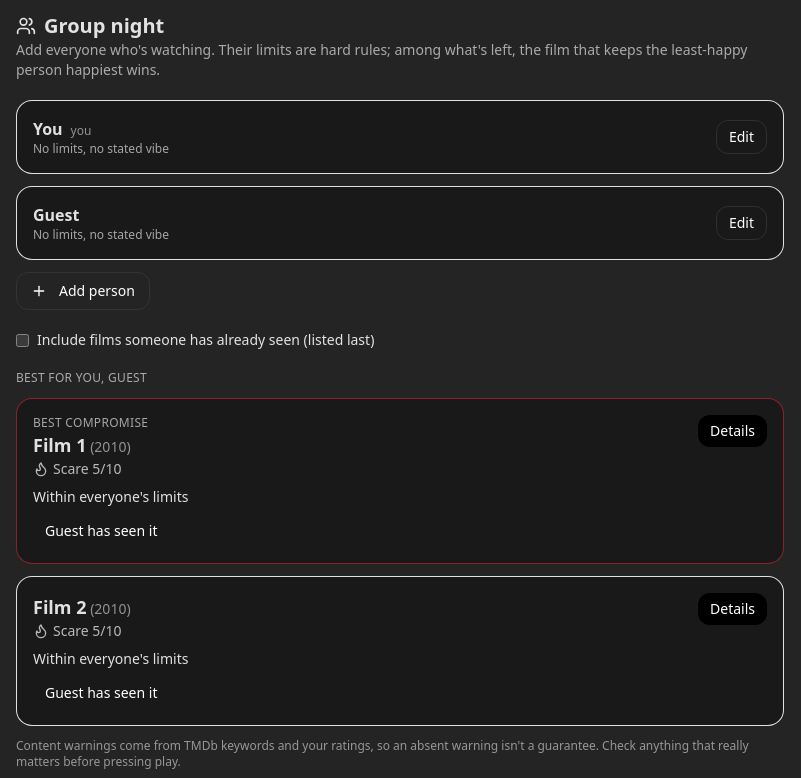
Test: Group night › ticking 'has seen it' takes the film off the list until you allow seen films
The image size is (801, 778).
Click the button "Guest has seen it" below "Film 1": (101, 531) [33,515,170,547]
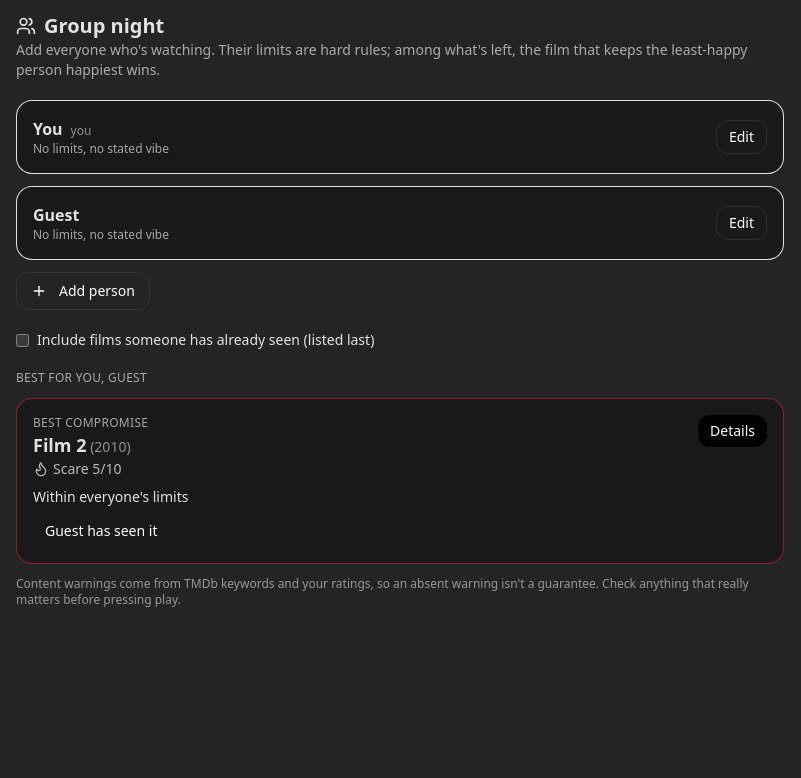
Click the checkbox labelled "Include films someone has already seen (listed last)": (22, 340) [16,334,29,346]
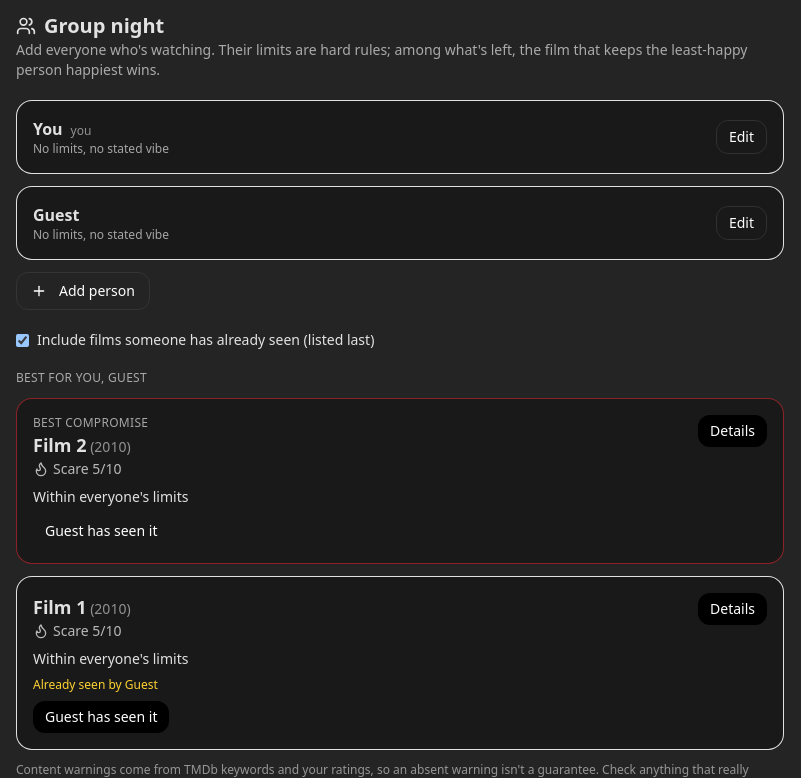
Result: the text "Already seen by Guest" is shown at [33,676,158,693]
